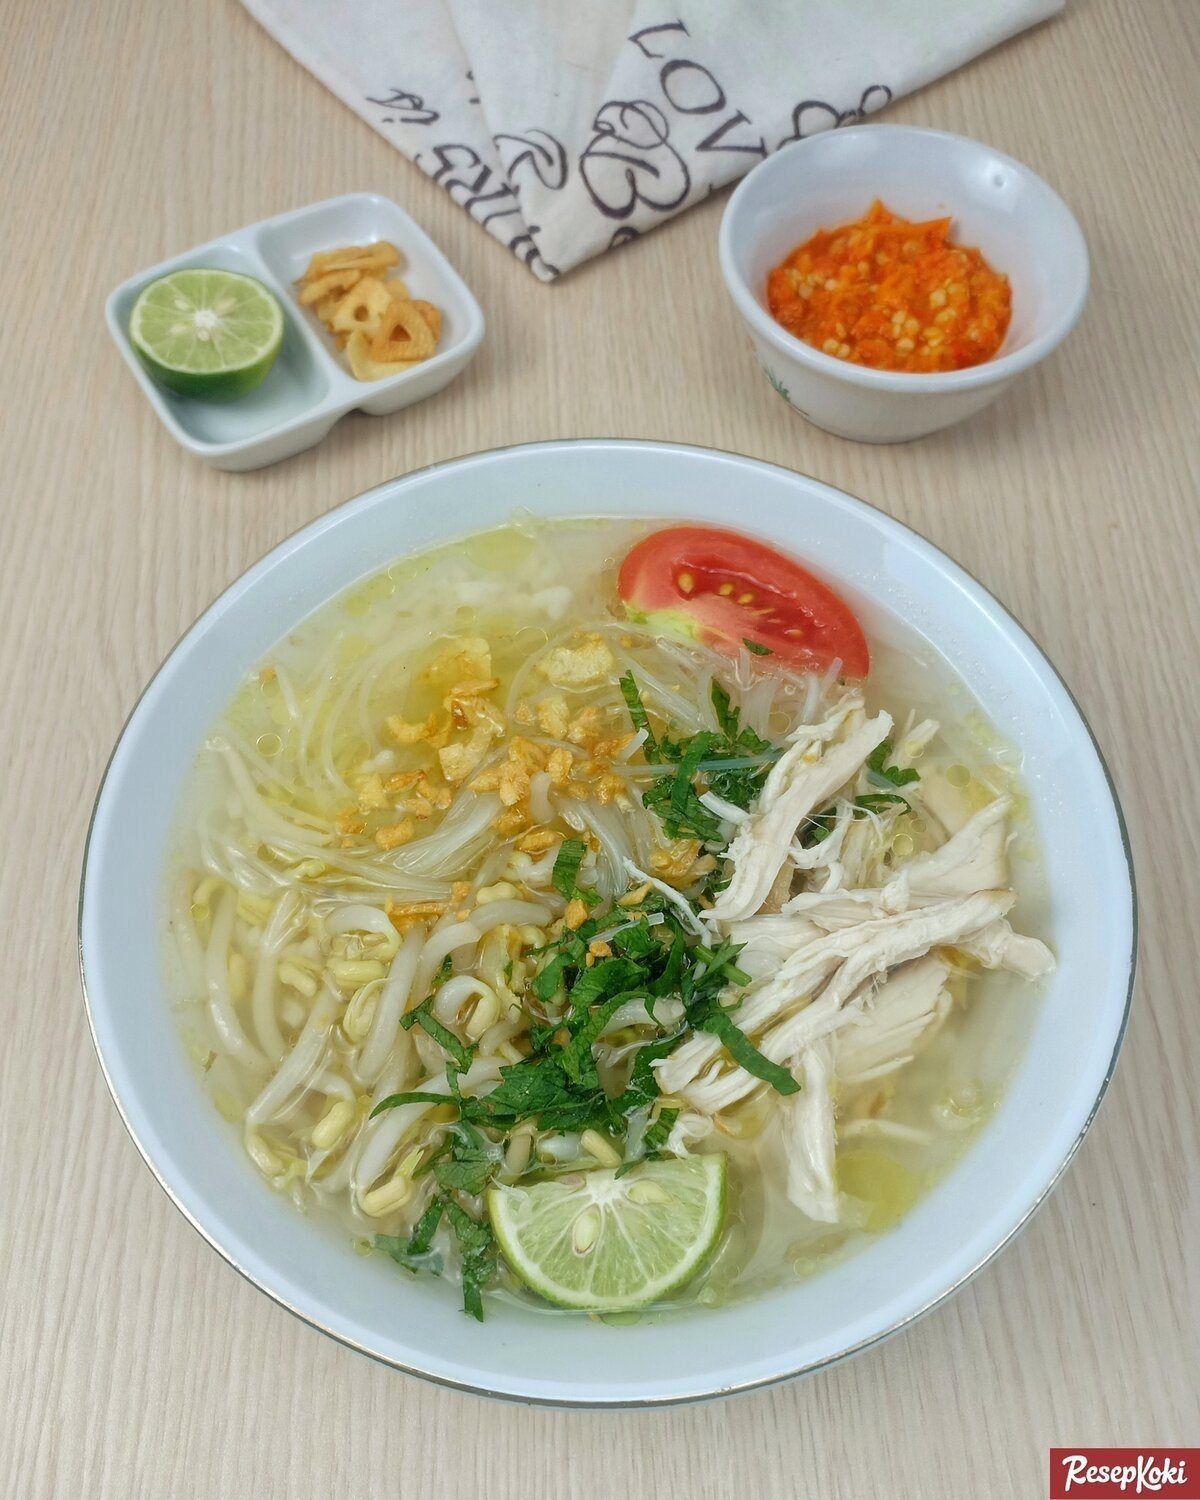soto: (181, 552, 1051, 1311)
